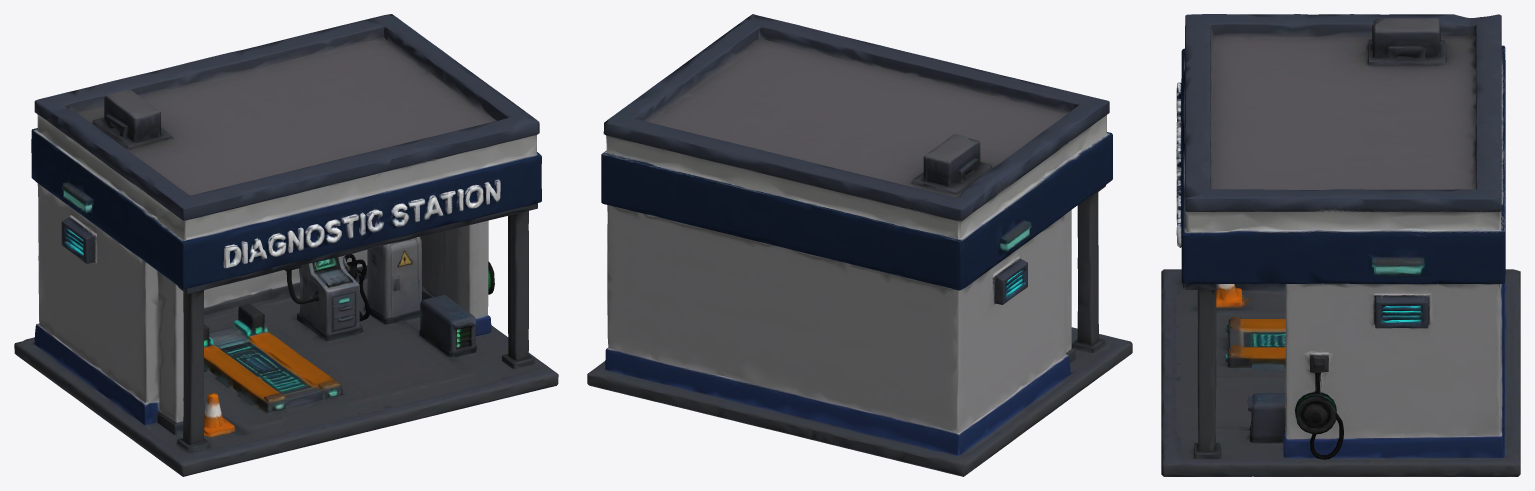
Rendered from diagnostic_station_1k_real.glb.
3 views of the same model, side by side, from view 1: azimuth 30°, elevation 25°; view 2: azimuth 150°, elevation 25°; view 3: azimuth 270°, elevation 25° (orthographic). The views are drawn at different scales.
Visible parts, largest first — view 1: tripo_node_228fbc2e-ce9f-4754-9db2-7c5366a15168; view 2: tripo_node_228fbc2e-ce9f-4754-9db2-7c5366a15168; view 3: tripo_node_228fbc2e-ce9f-4754-9db2-7c5366a15168.
Part boxes in pixels (x1,y1,x2,y2): tripo_node_228fbc2e-ce9f-4754-9db2-7c5366a15168: (14,14,558,476); tripo_node_228fbc2e-ce9f-4754-9db2-7c5366a15168: (587,14,1132,476); tripo_node_228fbc2e-ce9f-4754-9db2-7c5366a15168: (1161,14,1520,476).
Size of the model in its own units: 1 by 0.6933 by 0.7724.
Materials: 1 (1 with a texture image).
